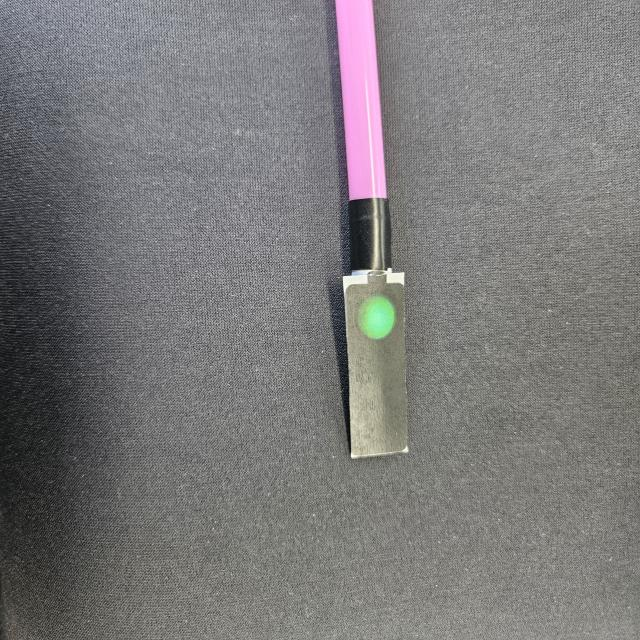traffic light: (341, 270, 410, 461)
